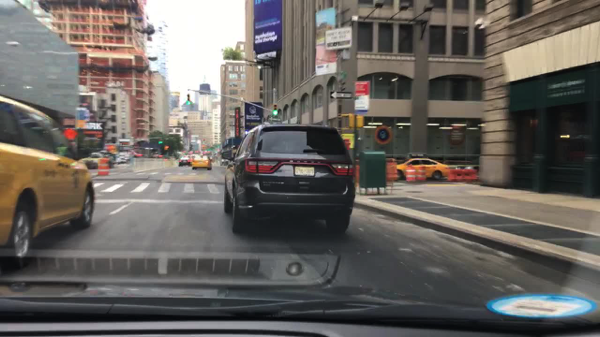car: (0, 95, 95, 258), (221, 123, 356, 234), (396, 158, 458, 181), (191, 154, 212, 171), (78, 157, 99, 169), (100, 151, 116, 164), (179, 155, 191, 167), (120, 152, 131, 161), (89, 152, 103, 158), (116, 157, 127, 164)
traffic light: (355, 116, 365, 129), (349, 114, 354, 129), (273, 103, 278, 116), (187, 94, 191, 104), (158, 139, 163, 145)
traffic sign: (324, 26, 352, 50), (354, 82, 369, 113), (341, 133, 355, 149), (329, 91, 353, 100), (65, 128, 78, 141), (75, 110, 89, 121), (75, 121, 86, 128), (269, 117, 281, 122), (341, 70, 347, 78)
